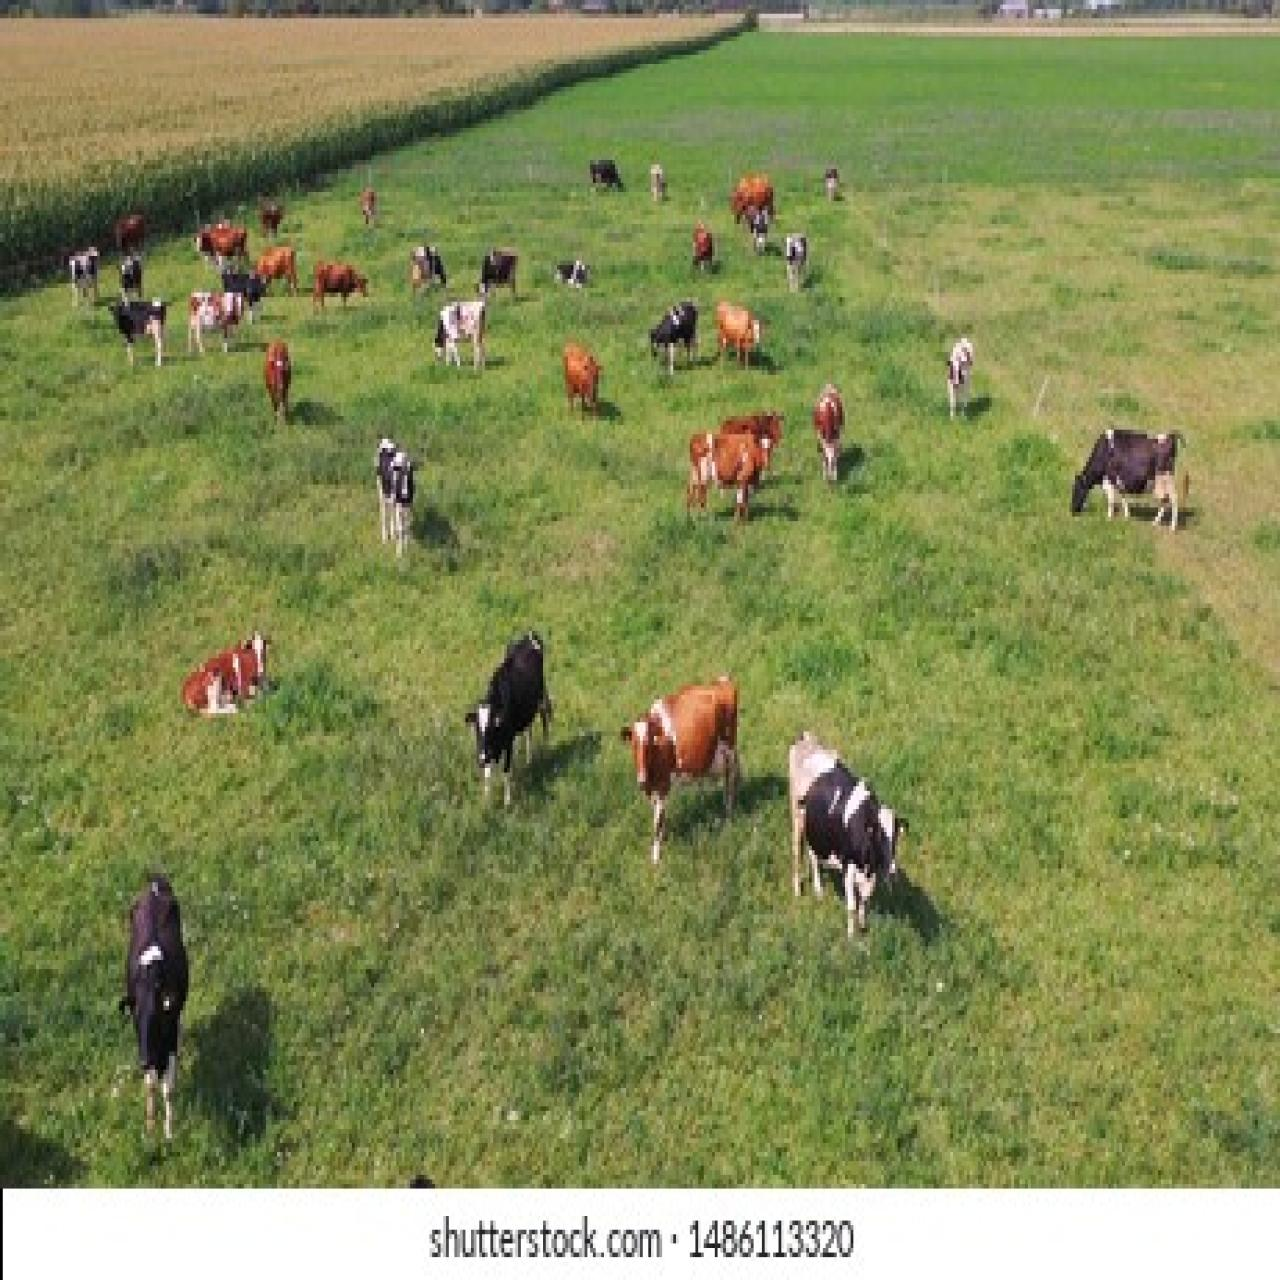cow: (789, 738, 908, 945), (627, 681, 745, 860), (124, 872, 192, 1151), (474, 628, 557, 802), (1070, 420, 1185, 524), (172, 629, 278, 734), (687, 431, 772, 520), (182, 285, 256, 352), (377, 438, 418, 557), (941, 324, 985, 422), (111, 297, 170, 368), (436, 295, 491, 368), (813, 386, 851, 483), (713, 305, 764, 369), (647, 305, 697, 367), (560, 342, 602, 414), (315, 261, 375, 311), (730, 178, 778, 238), (193, 222, 250, 267), (224, 263, 271, 313), (64, 250, 102, 312), (264, 340, 292, 421), (817, 149, 852, 211), (114, 206, 150, 263), (257, 246, 299, 292), (482, 248, 523, 295), (410, 246, 450, 292), (587, 159, 624, 200), (782, 229, 809, 284), (690, 227, 720, 277), (556, 257, 592, 292), (118, 257, 147, 299), (646, 163, 668, 211), (260, 199, 287, 234), (358, 188, 380, 230)
